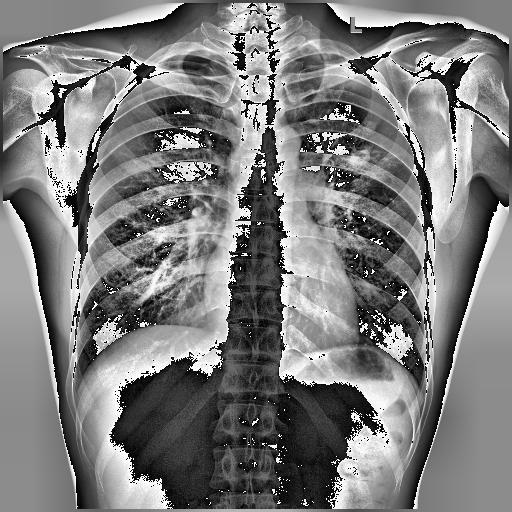13- Pulmonary fibrosis: (360, 144, 402, 162), (346, 145, 374, 165)
8- Nodule-Mass: (346, 145, 374, 165), (351, 150, 371, 166), (351, 151, 371, 165)
